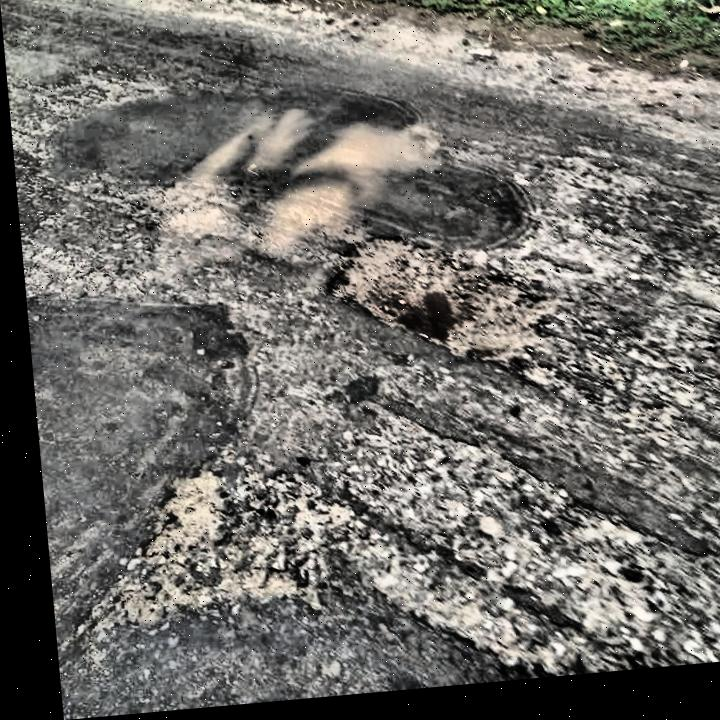pothole: (312, 227, 558, 389)
